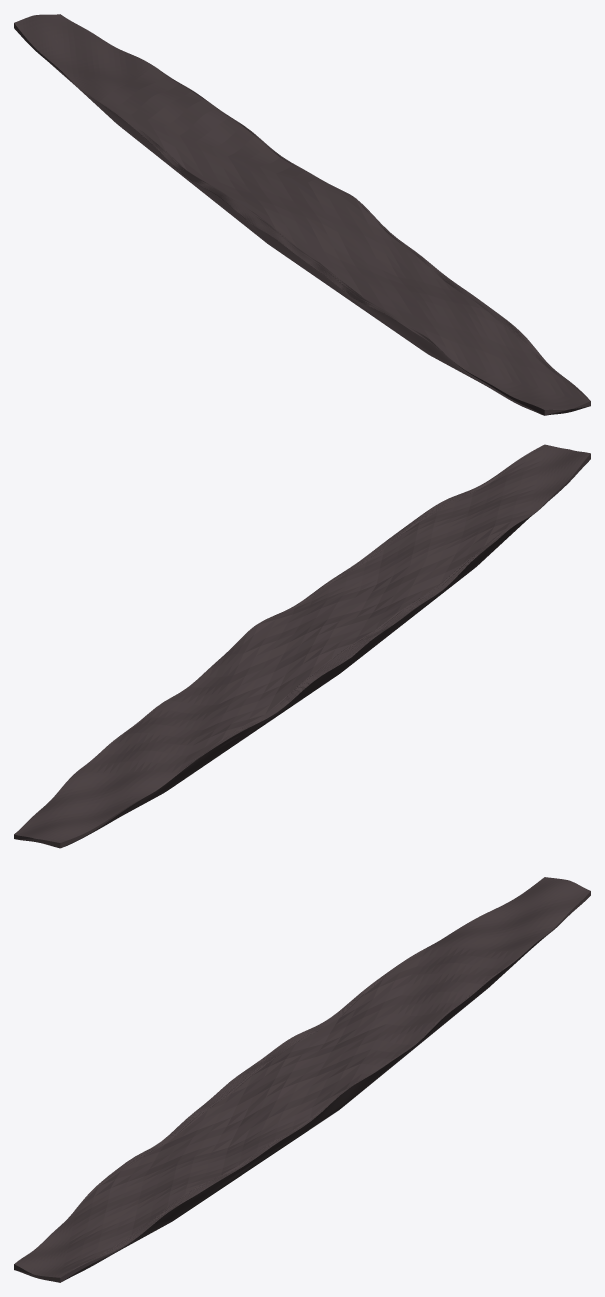
File: asteroid-ambre.glb
The picture shows the model from 3 angles, top to bottom: view 1: azimuth 30°, elevation 25°; view 2: azimuth 150°, elevation 25°; view 3: azimuth 330°, elevation 25°; orthographic projection.
Visible parts, largest first — view 1: Asteroide_plein_ambre; view 2: Asteroide_plein_ambre; view 3: Asteroide_plein_ambre.
Boxes of the visible parts, x1,y1,x2,y2 form: Asteroide_plein_ambre: (14,14,590,415); Asteroide_plein_ambre: (14,444,590,848); Asteroide_plein_ambre: (14,877,590,1282).
Size of the model in its own units: 13 by 4.94 by 120.
1 material, 1 textured.
